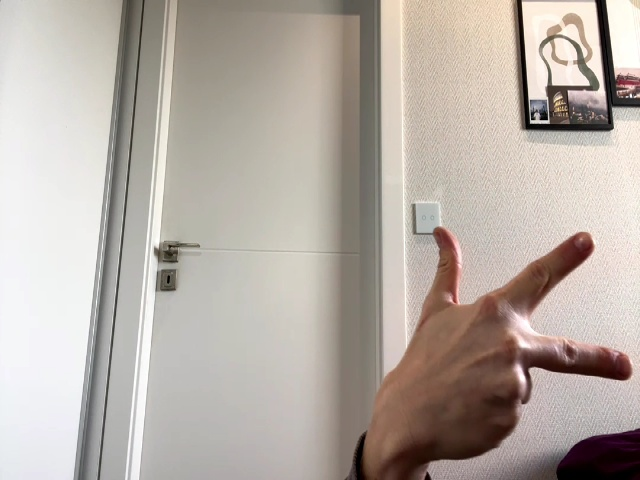K: (378, 227, 634, 461)
